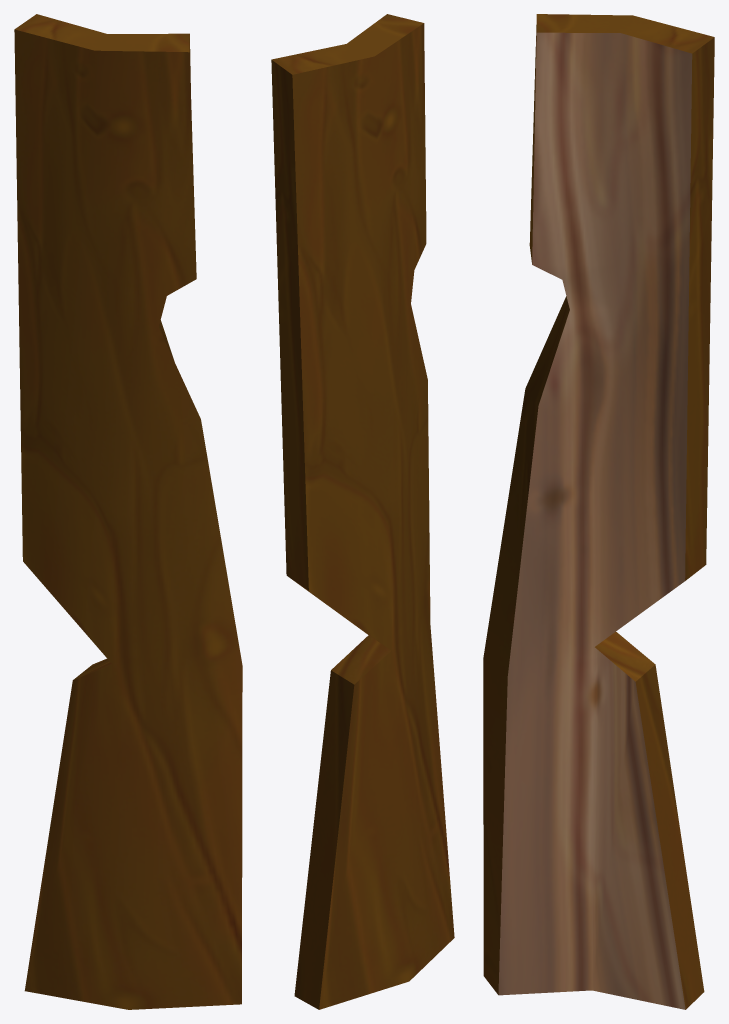
The model's file is p_mesh_hvs_leafy_bark03.fbx.
3 views of the same model, side by side, from view 1: azimuth 90°, elevation 25°; view 2: azimuth 150°, elevation 25°; view 3: azimuth 270°, elevation 25° (orthographic). The views are drawn at different scales.
Visible parts, largest first — view 1: model.004; view 2: model.004; view 3: model.004.
Boxes of the visible parts, x1=… form: model.004: x1=14, y1=14, x2=242, y2=1009; model.004: x1=271, y1=14, x2=454, y2=1009; model.004: x1=483, y1=14, x2=714, y2=1009.
Bounding box in the file's own units: 0.4148 × 4 × 0.8675.
Materials: 1 (1 with a texture image).
